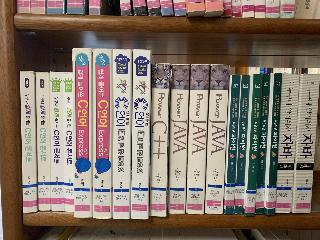book-spine: (146, 63, 171, 217), (293, 73, 320, 214), (204, 64, 229, 214), (273, 73, 299, 214), (185, 64, 209, 215), (72, 48, 92, 218), (92, 49, 112, 219), (168, 64, 190, 215), (112, 49, 131, 219), (131, 49, 150, 219), (19, 71, 38, 213), (245, 74, 263, 216), (48, 71, 65, 211), (255, 73, 271, 214), (234, 75, 250, 214), (267, 73, 282, 215), (225, 75, 240, 215), (36, 72, 51, 211), (63, 72, 74, 212)
